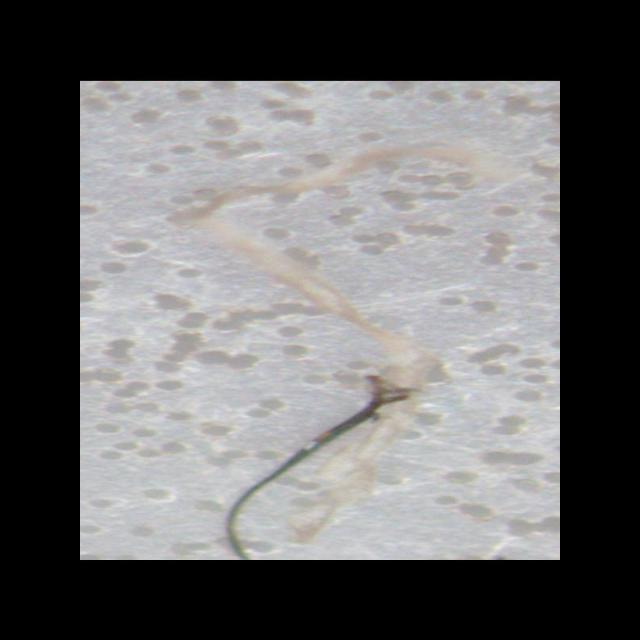Fibre: (161, 134, 499, 560)
